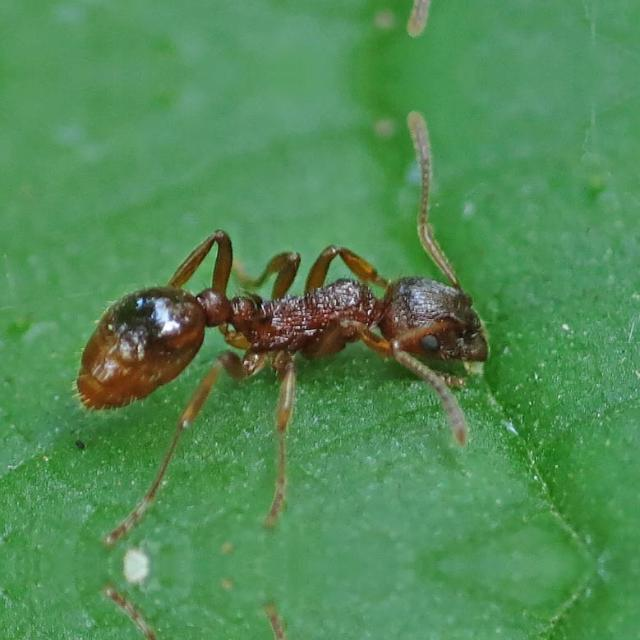Myrmica: (102, 167, 538, 508)
